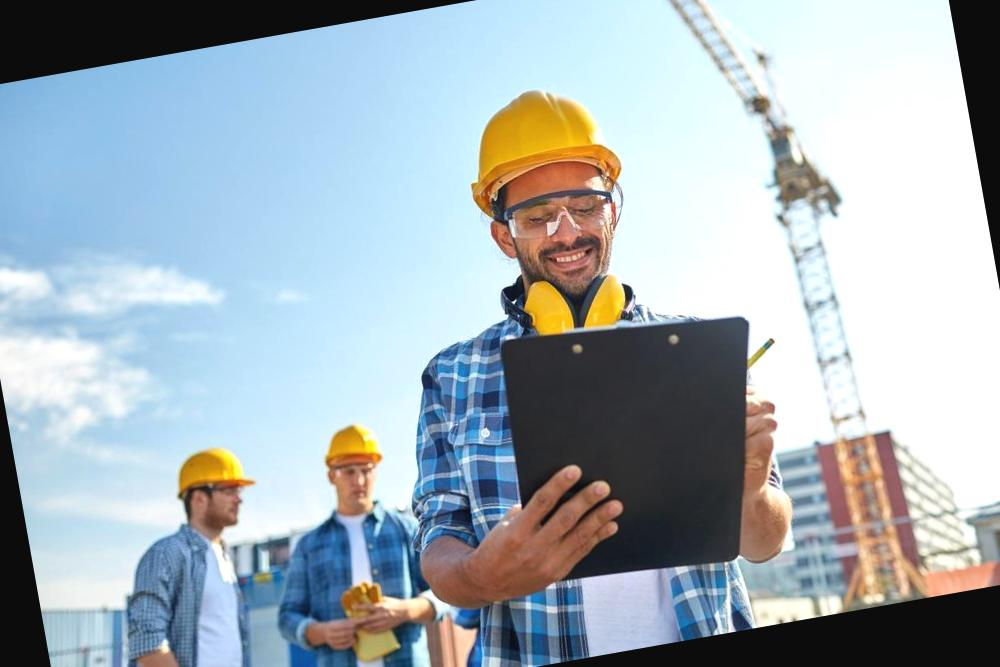helmet: (460, 76, 628, 194), (168, 430, 254, 498), (320, 416, 381, 471)
no_vest: (279, 500, 420, 667), (115, 518, 266, 667)
person: (324, 57, 803, 667), (86, 433, 290, 667), (259, 416, 427, 667)
